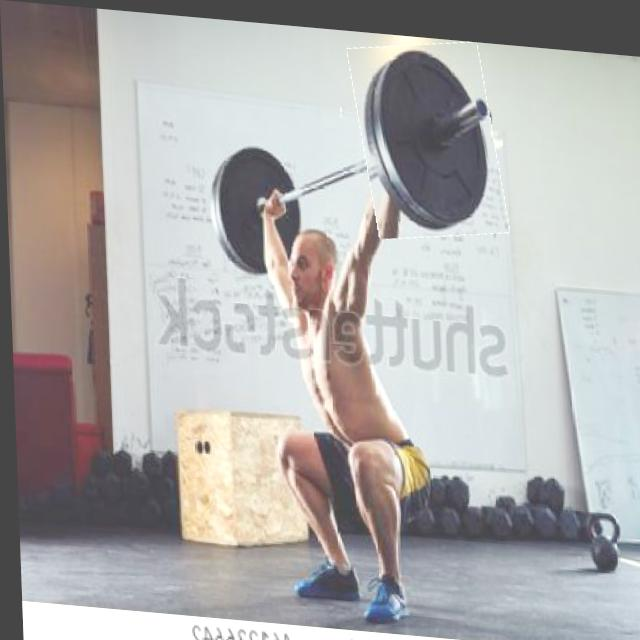barbell: (353, 29, 503, 238)
